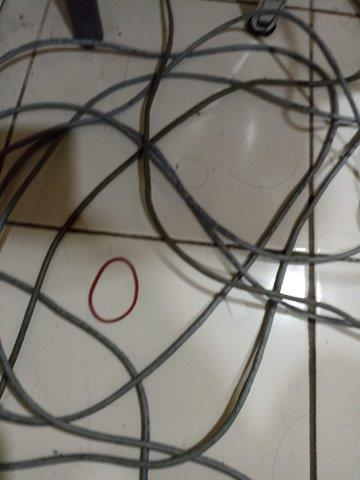karet: (88, 256, 140, 324)
